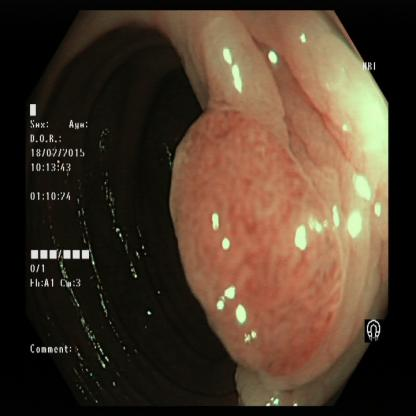Labels: (30, 100, 96, 203), (27, 241, 99, 292), (30, 328, 78, 364), (359, 314, 391, 351)
Polyps: (181, 96, 328, 361)
